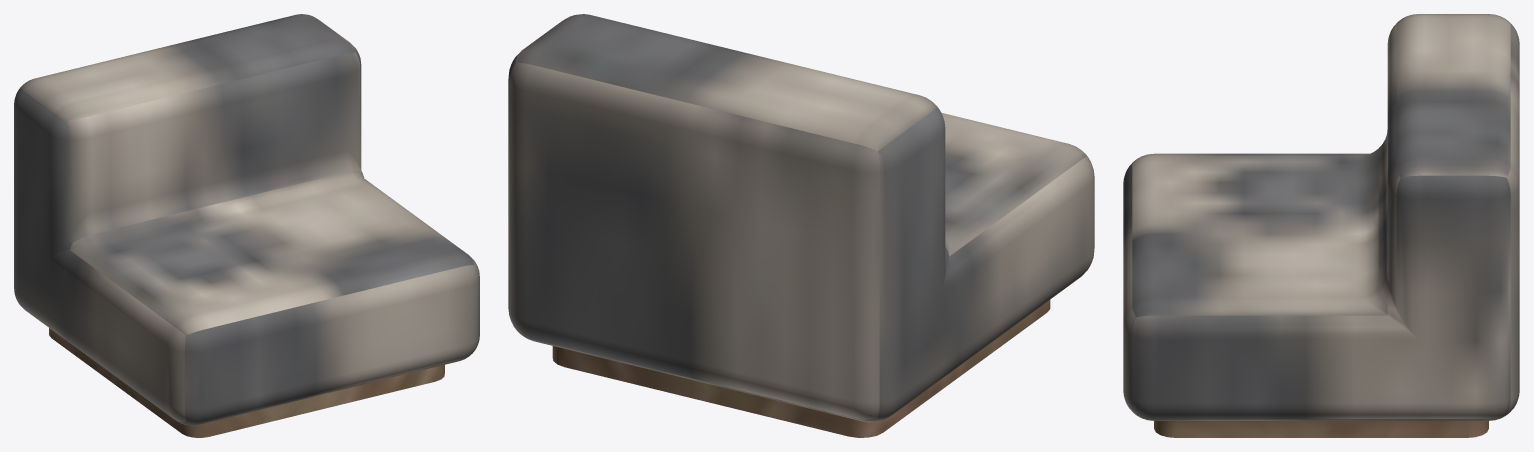
The model's file is Sofa Two.fbx.
The picture shows the model from 3 angles, left to right: view 1: azimuth 30°, elevation 25°; view 2: azimuth 150°, elevation 25°; view 3: azimuth 270°, elevation 25°; orthographic projection. The views are drawn at different scales.
Visible parts, largest first — view 1: Plane.051; view 2: Plane.051; view 3: Plane.051.
Part boxes in pixels (x1,y1,x2,y2): Plane.051: [14, 14, 479, 437]; Plane.051: [508, 14, 1094, 437]; Plane.051: [1123, 14, 1519, 437].
Bounding box in the file's own units: 90 × 70 × 90.
Materials: 2 (2 with a texture image).
